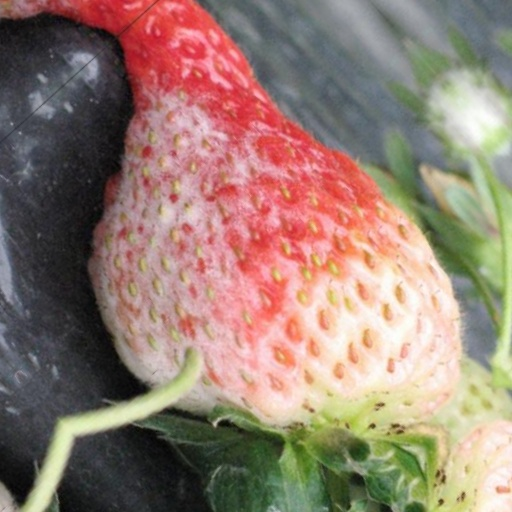Powdery Mildew Fruit: (46, 0, 396, 471)
